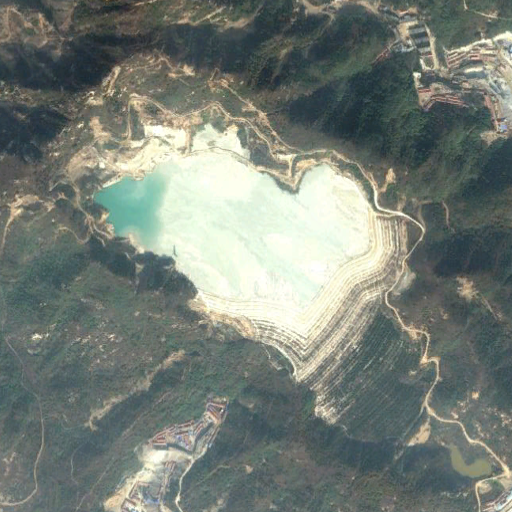tp: (93, 145, 436, 447)
